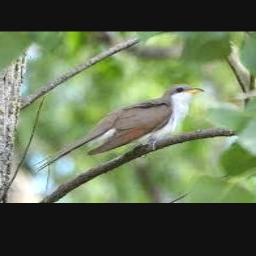Cuckoo: (34, 84, 205, 171)
